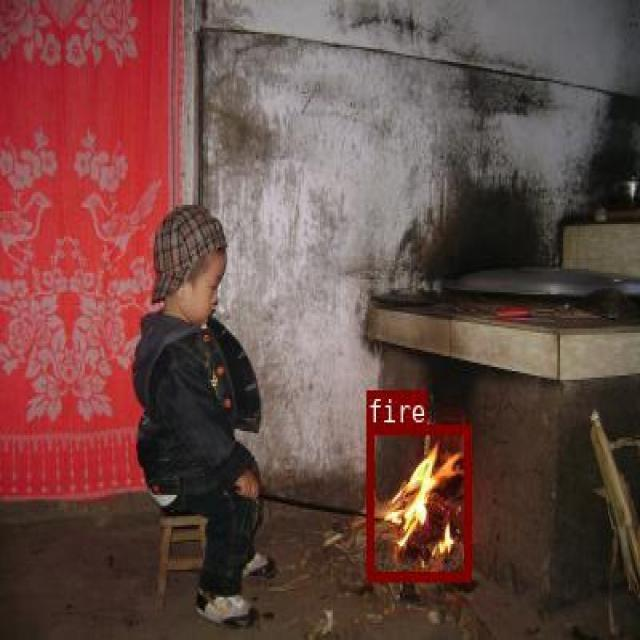fire: (365, 424, 469, 579)
